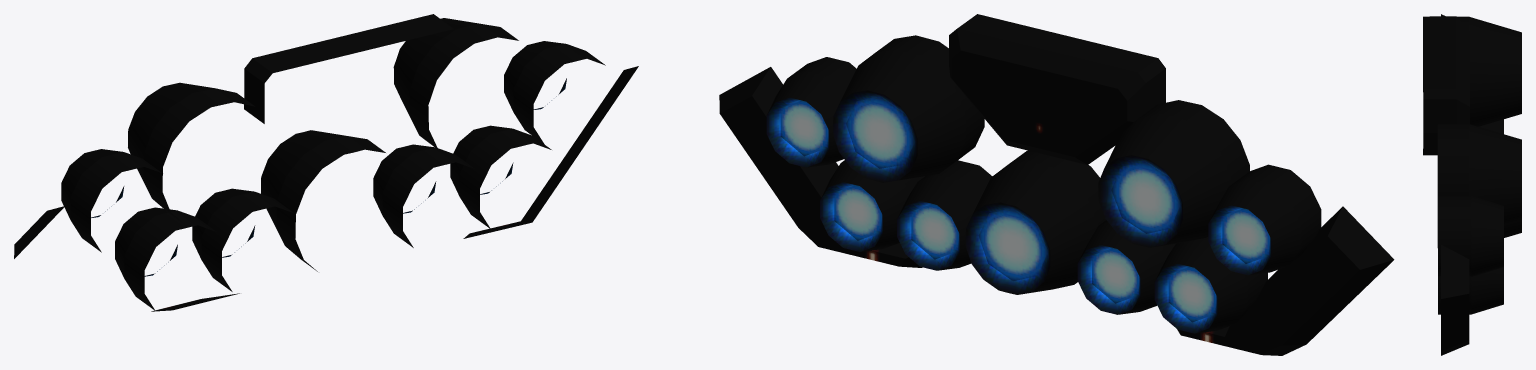
File: engine_hgn_battlecruiser_02_ion_03_t3.glb
The picture shows the model from 3 angles, left to right: view 1: azimuth 30°, elevation 25°; view 2: azimuth 150°, elevation 25°; view 3: azimuth 270°, elevation 25°; orthographic projection. The views are drawn at different scales.
Visible parts, largest first — view 1: ion_engine_bc_l_01; view 2: ion_engine_bc_l_01; view 3: ion_engine_bc_l_01.
Part boxes in pixels (left/top/right/bottom): ion_engine_bc_l_01: left=14, top=14, right=638, bottom=311; ion_engine_bc_l_01: left=719, top=14, right=1394, bottom=355; ion_engine_bc_l_01: left=1423, top=14, right=1521, bottom=355.
Size of the model in its own units: 2.48 by 0.902 by 0.3804.
Materials: 1 (1 with a texture image).
